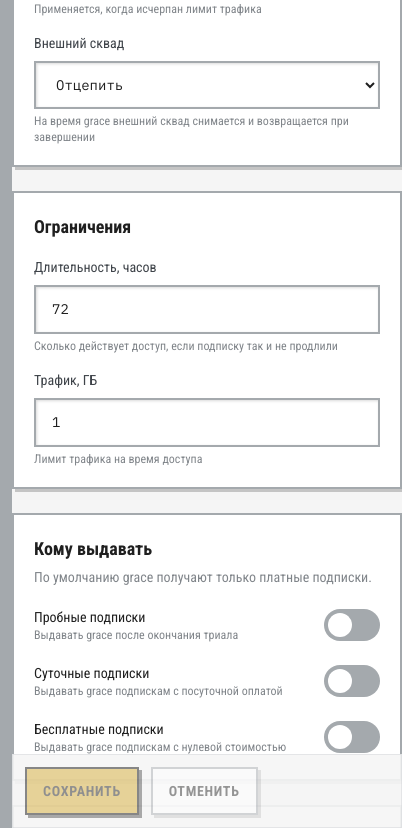
Test case: раздел grace-доступа › не даёт включить режим с трафиком меньше гигабайта
The image size is (402, 828).
(page scrolled)
Step 1. Replace the text in the number field labelled "Трафик, ГБ" with "0" → (207, 422), box [34,398,380,447]
(page scrolled)
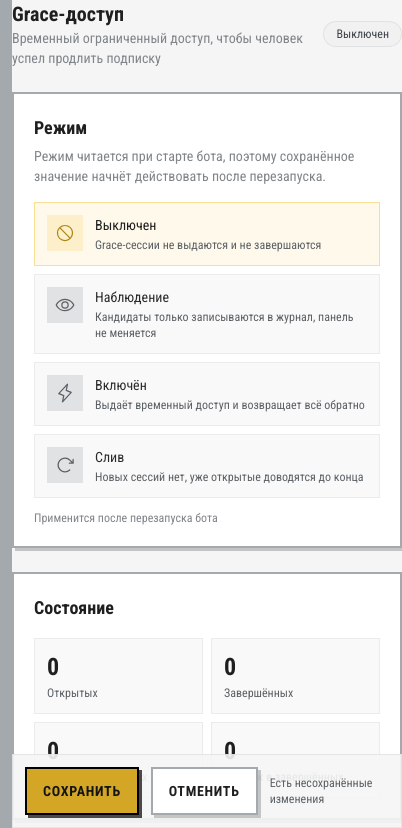
Step 2. Click the button "Включён Выдаёт временный доступ и возвращает всё обратно" → (65, 393), box [34,362,380,426]
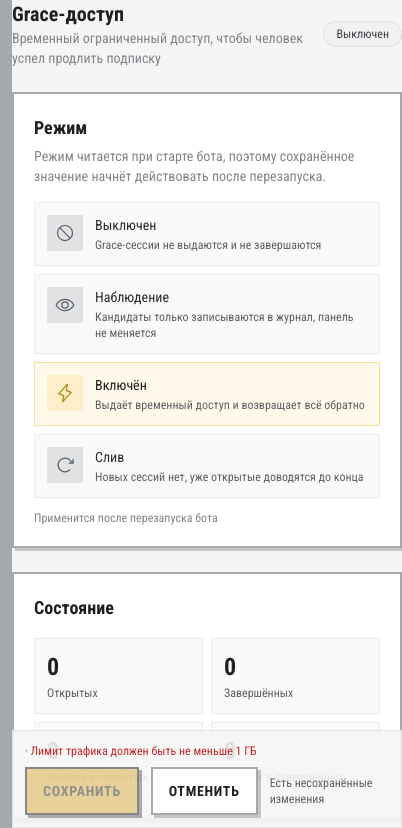
Result: the button "Сохранить" is disabled at [25,767,139,815]
